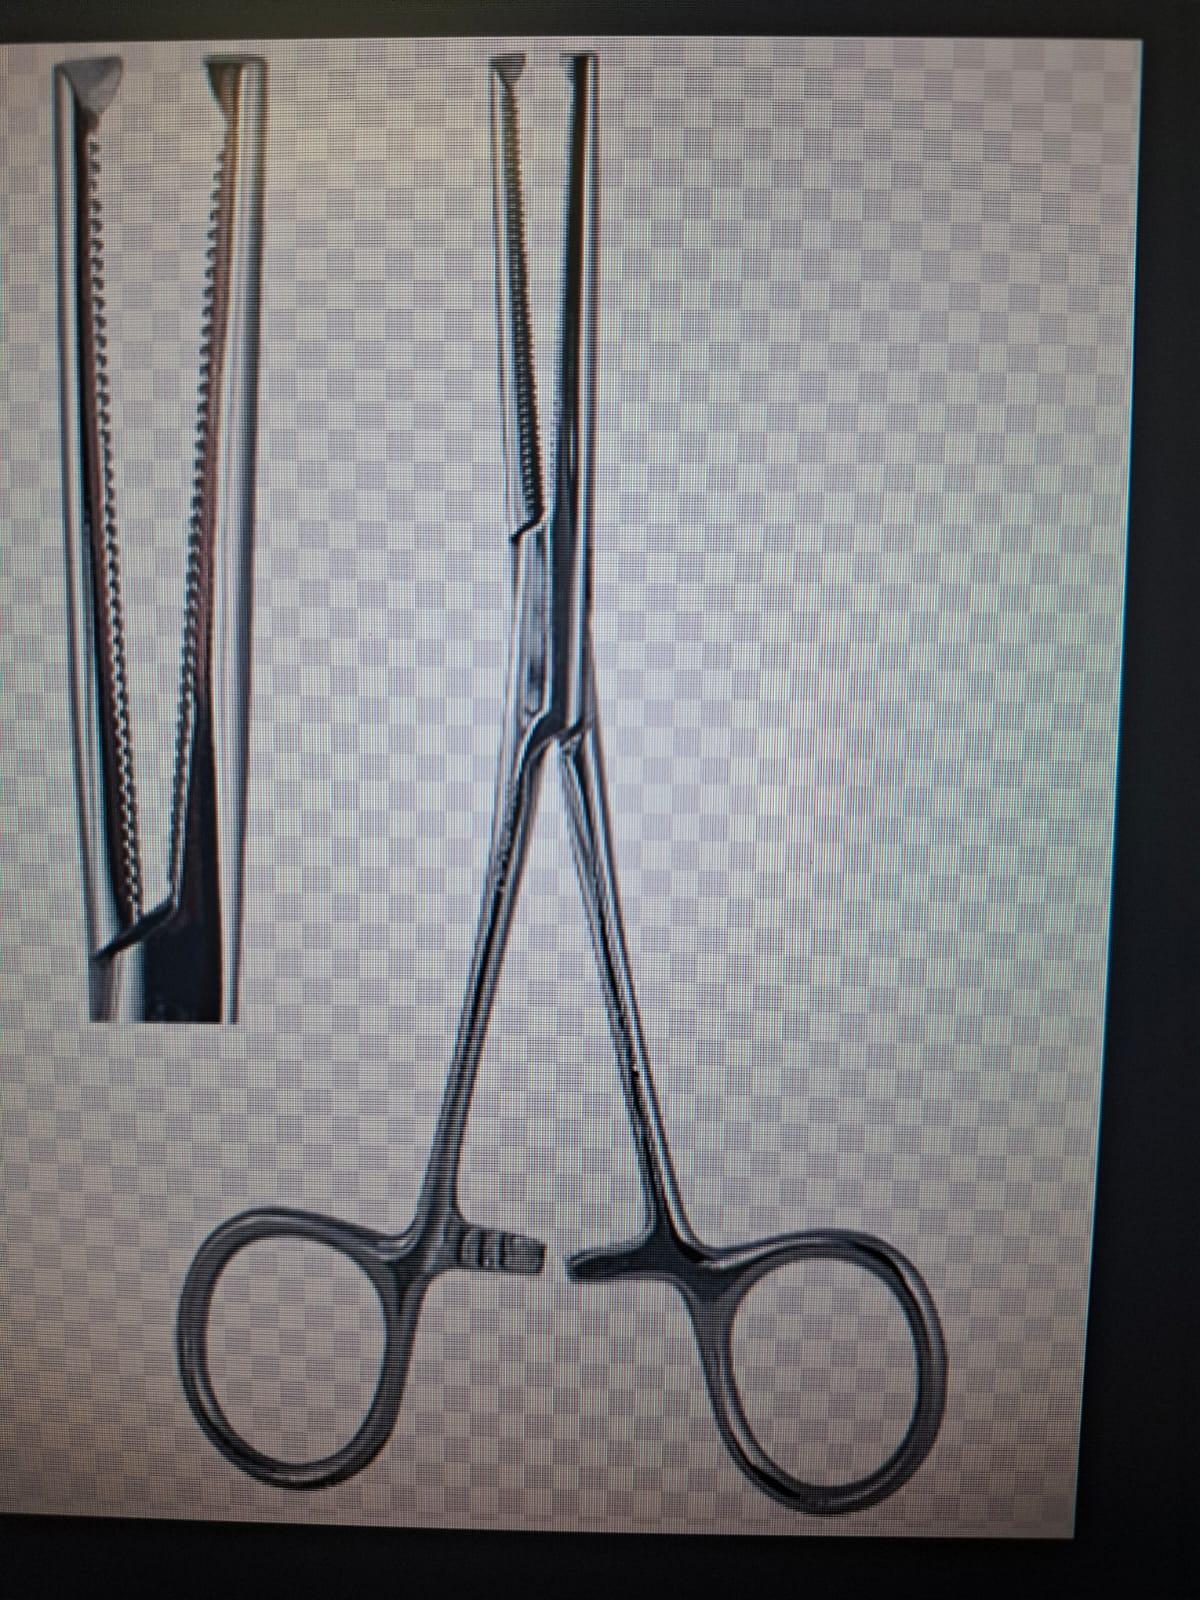Kocher Forceps: (172, 40, 970, 1520)
